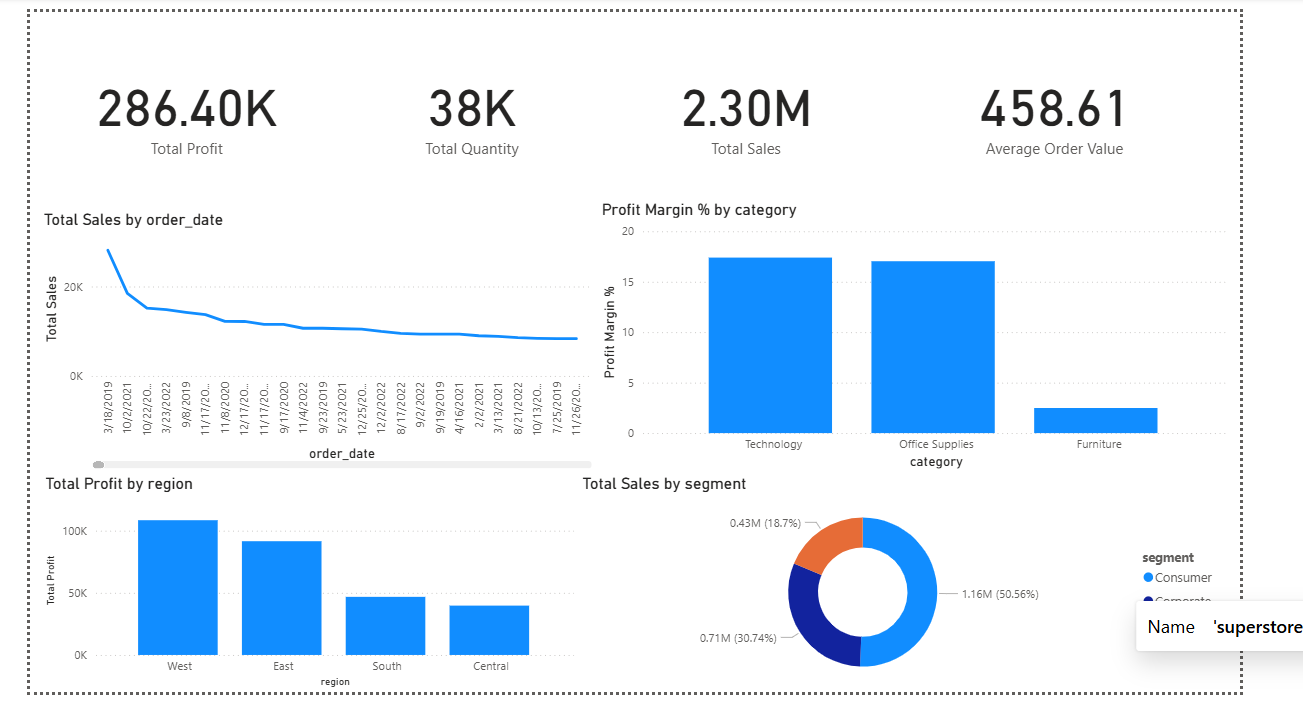

The page's visual inventory and layout, read from the dashboard file:
{"tool":"powerbi","page":{"name":"Page 1","canvas":[1280,720],"ordinal":0},"visuals":[{"type":"card","fields":{"Values":["superstore_dataset.Total Profit"]},"box":[10.6,0,308.9,210.5],"z":0},{"type":"card","fields":{"Values":["superstore_dataset.Total Quantity"]},"box":[319.5,0,296.8,210.5],"z":1000},{"type":"card","fields":{"Values":["superstore_dataset.Total Sales"]},"box":[599.6,0,315,210.5],"z":2000},{"type":"card","fields":{"Values":["superstore_dataset.Average Order Value"]},"box":[947.9,0,272.6,210.5],"z":3000},{"type":"lineChart","fields":{"Category":["superstore_dataset.order_date"],"Y":["superstore_dataset.Total Sales"]},"box":[10.1,210.1,589.9,278.3],"z":4000},{"type":"clusteredColumnChart","fields":{"Category":["superstore_dataset.region"],"Y":["superstore_dataset.Total Profit"]},"box":[10.6,489.1,569.3,230.2],"z":5000},{"type":"donutChart","fields":{"Y":["superstore_dataset.Total Sales"],"Category":["superstore_dataset.segment"]},"box":[580,489,700,230],"z":6000},{"type":"clusteredColumnChart","fields":{"Category":["superstore_dataset.category"],"Y":["superstore_dataset.Profit Margin %"]},"box":[600,198.6,673.9,289.9],"z":6001}]}

Visuals, with their boxes in screenshot pixels (x1, y1, x2, y2), scaled from the page's 1280x720 canvas onto the 1303x720 screenshot:
card - superstore_dataset.Total Profit: [left=11, top=0, right=325, bottom=210]
card - superstore_dataset.Total Quantity: [left=325, top=0, right=627, bottom=210]
card - superstore_dataset.Total Sales: [left=610, top=0, right=931, bottom=210]
card - superstore_dataset.Average Order Value: [left=965, top=0, right=1242, bottom=210]
lineChart - superstore_dataset.order_date x superstore_dataset.Total Sales: [left=10, top=210, right=611, bottom=488]
clusteredColumnChart - superstore_dataset.region x superstore_dataset.Total Profit: [left=11, top=489, right=590, bottom=719]
donutChart - superstore_dataset.Total Sales x superstore_dataset.segment: [left=590, top=489, right=1302, bottom=719]
clusteredColumnChart - superstore_dataset.category x superstore_dataset.Profit Margin %: [left=611, top=199, right=1297, bottom=488]
